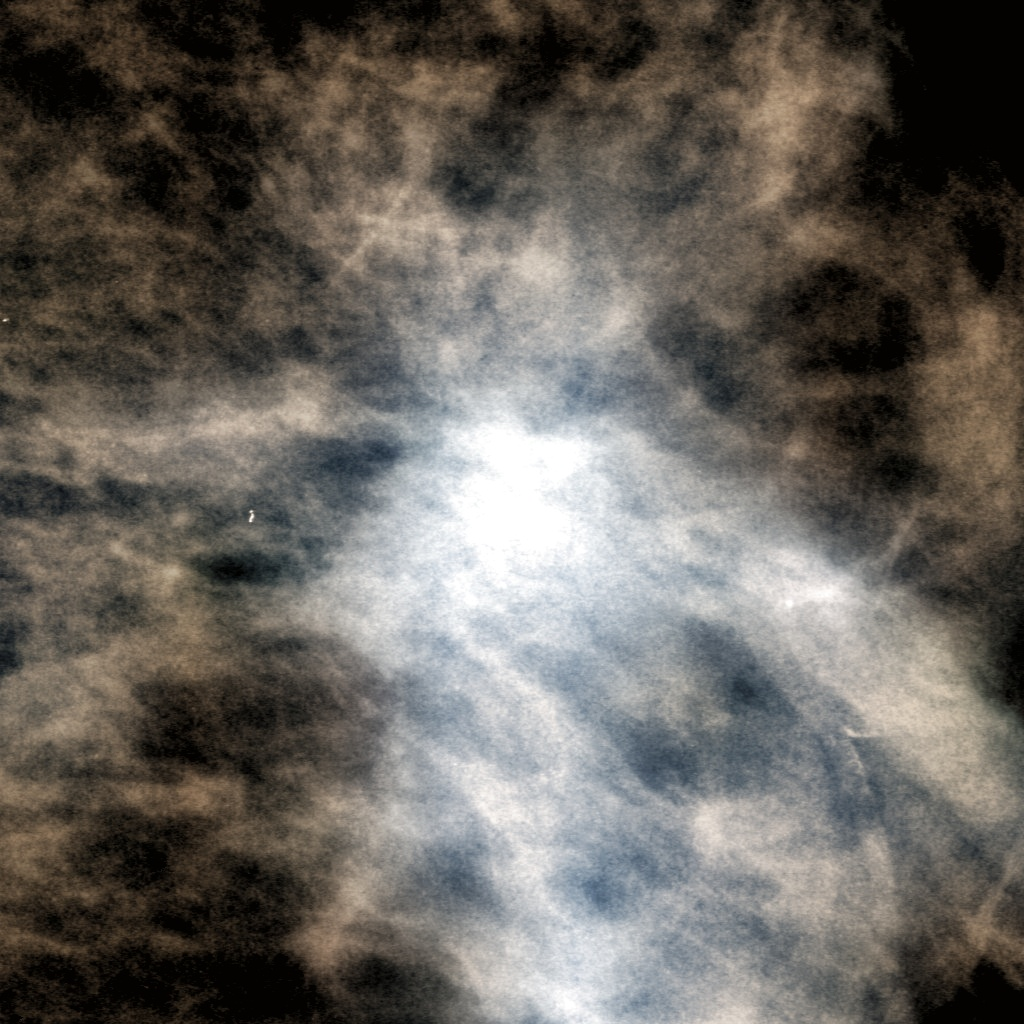tumor: (351, 371, 673, 653)
